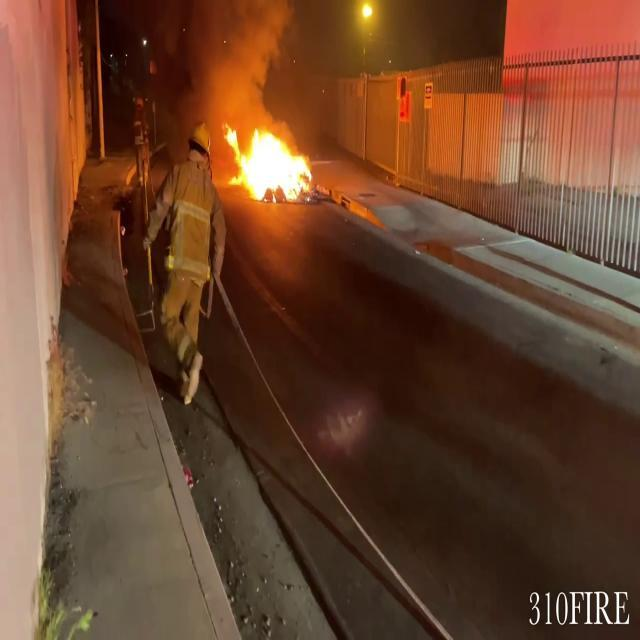Fire: (222, 118, 318, 208)
Smoke: (170, 0, 285, 149)
